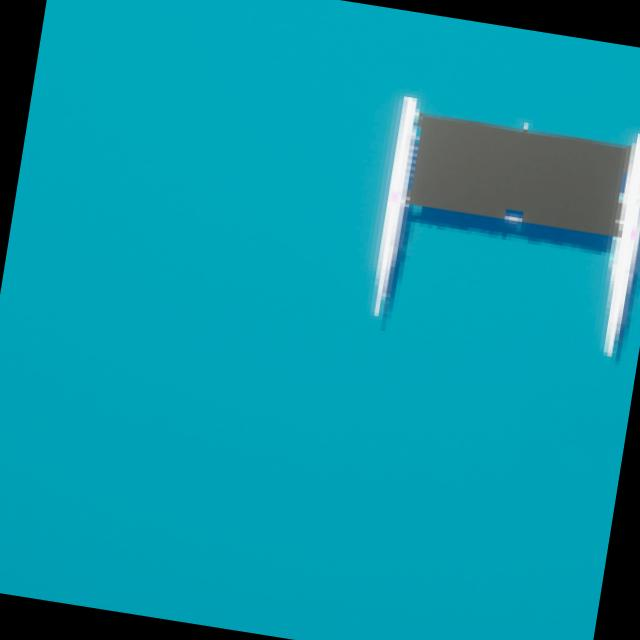boat: (359, 86, 640, 356)
drone: (414, 114, 630, 234)
